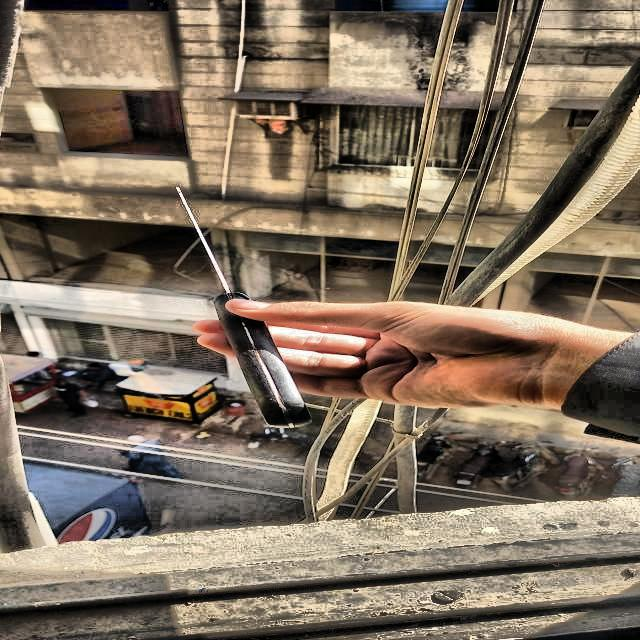knife: (180, 188, 310, 426)
